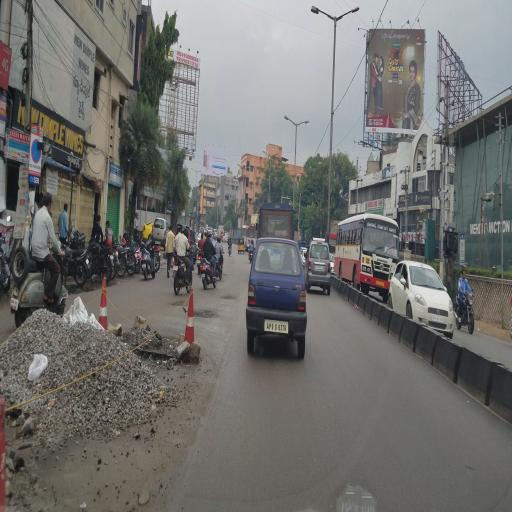street_light_0: (335, 1, 360, 33), (308, 1, 332, 33), (294, 108, 316, 136), (274, 106, 296, 134)
